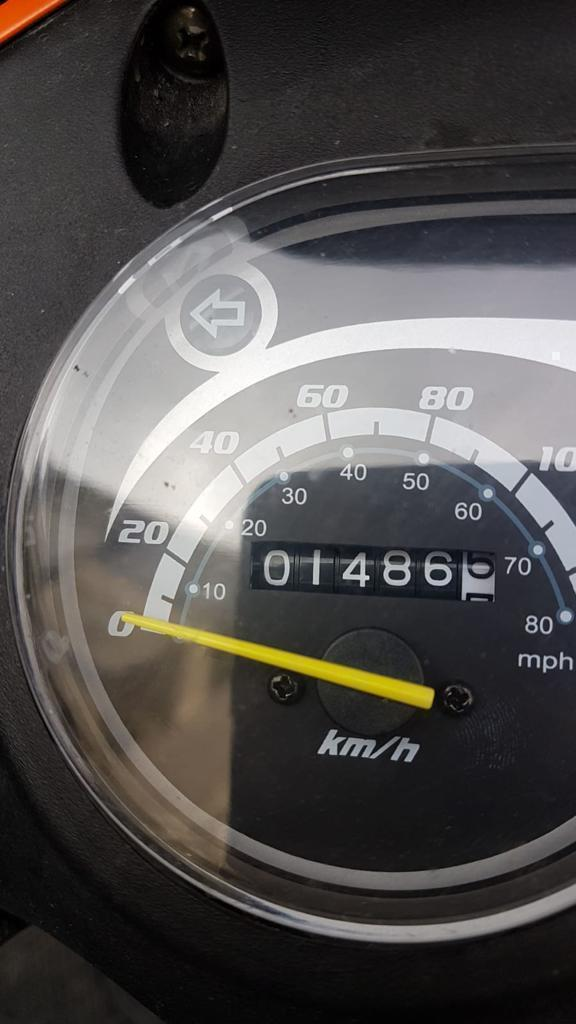0: (262, 548, 290, 587)
1: (306, 546, 323, 588)
4: (338, 547, 371, 588)
6: (422, 549, 454, 587), (466, 549, 496, 580)
8: (381, 548, 412, 587)
odometer: (244, 535, 502, 609)
